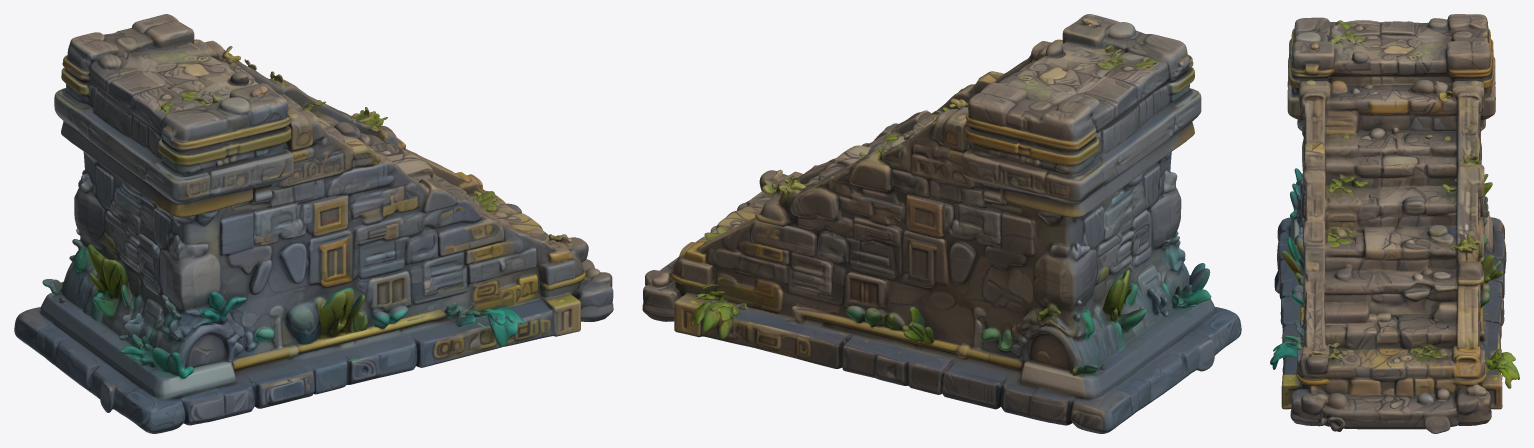
Rendered from temple-stairs.glb.
3 views of the same model, side by side, from view 1: azimuth 30°, elevation 25°; view 2: azimuth 150°, elevation 25°; view 3: azimuth 270°, elevation 25° (orthographic). The views are drawn at different scales.
Visible parts, largest first — view 1: tripo_node_707b793f-af1b-45e5-81c7-fc00ba340b18; view 2: tripo_node_707b793f-af1b-45e5-81c7-fc00ba340b18; view 3: tripo_node_707b793f-af1b-45e5-81c7-fc00ba340b18.
Boxes of the visible parts, x1=… form: tripo_node_707b793f-af1b-45e5-81c7-fc00ba340b18: x1=14, y1=14, x2=613, y2=433; tripo_node_707b793f-af1b-45e5-81c7-fc00ba340b18: x1=642, y1=14, x2=1241, y2=433; tripo_node_707b793f-af1b-45e5-81c7-fc00ba340b18: x1=1270, y1=14, x2=1519, y2=433.
Size of the model in its own units: 1 by 0.5818 by 0.5305.
Materials: 1 (1 with a texture image).
